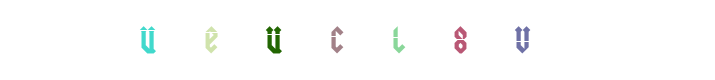8: (371, 0, 451, 80)
C: (306, 0, 386, 80)
E: (233, 0, 313, 80)
L: (318, 0, 398, 80)
U: (108, 0, 188, 80), (262, 0, 342, 80)
V: (482, 0, 562, 80)
